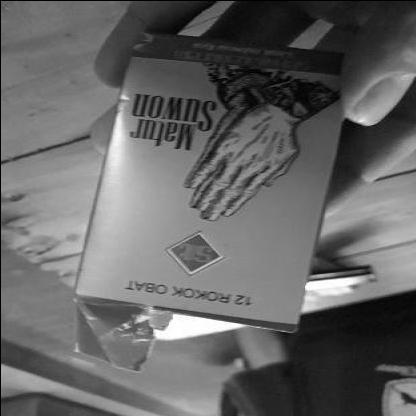objects: (74, 33, 342, 331)
